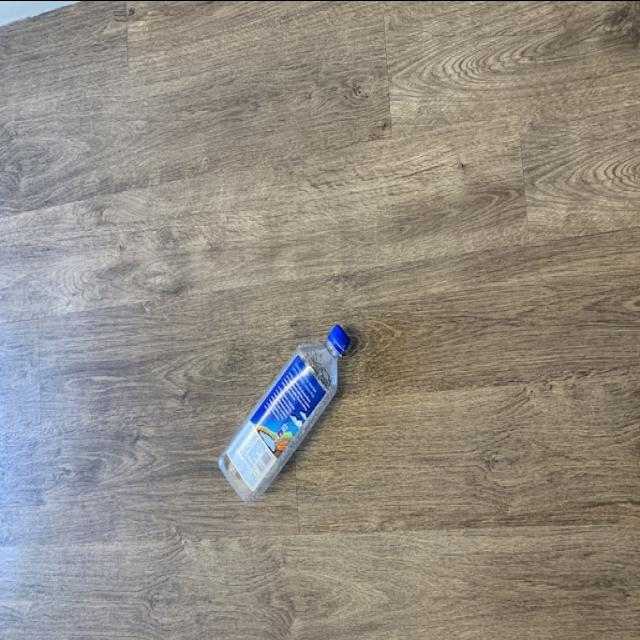PET: (218, 322, 352, 502)
